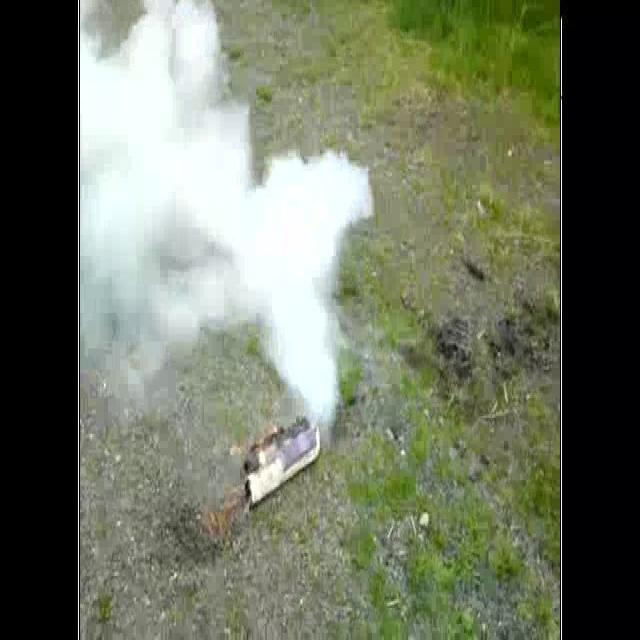Smoke: (78, 0, 380, 427)
